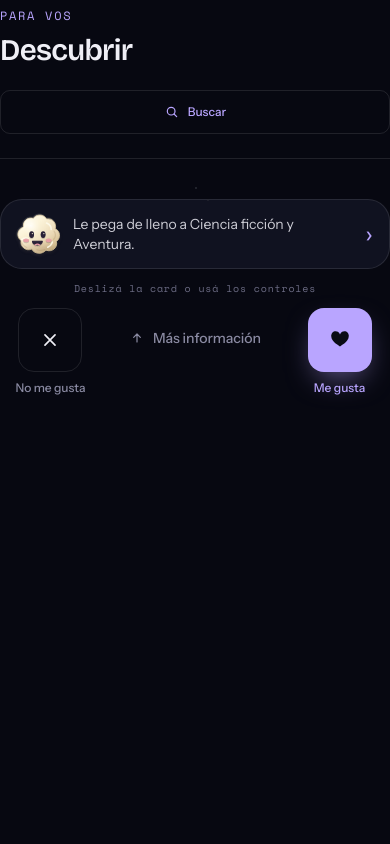
Scenario: DiscoverScreen › shows a compact full-width Buti card below the movie on mobile
The image size is (390, 844).
Expected: the picture named "Buti feliz, match alto" is shown, [13, 210, 61, 258]
Expected: the text "Le pega de lleno a Ciencia ficción y Aventura." is shown, [73, 214, 294, 252]
Click the button with aria-label "Abrir asistente de Buti sobre Dune desde el resumen": (195, 234) [0, 198, 389, 268]
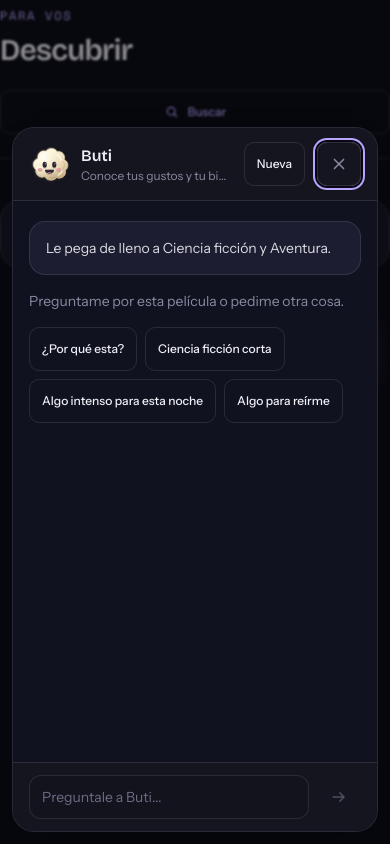
Expected: the dialog named "Asistente de Buti sobre Dune" is shown
